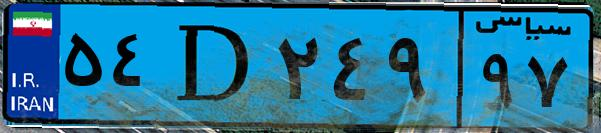2: (270, 28, 330, 110)
4: (330, 28, 385, 110), (110, 28, 158, 98)
5: (57, 26, 110, 100)
7: (525, 38, 570, 115)
9: (385, 28, 445, 110), (475, 38, 525, 113)
D: (158, 12, 270, 120)
